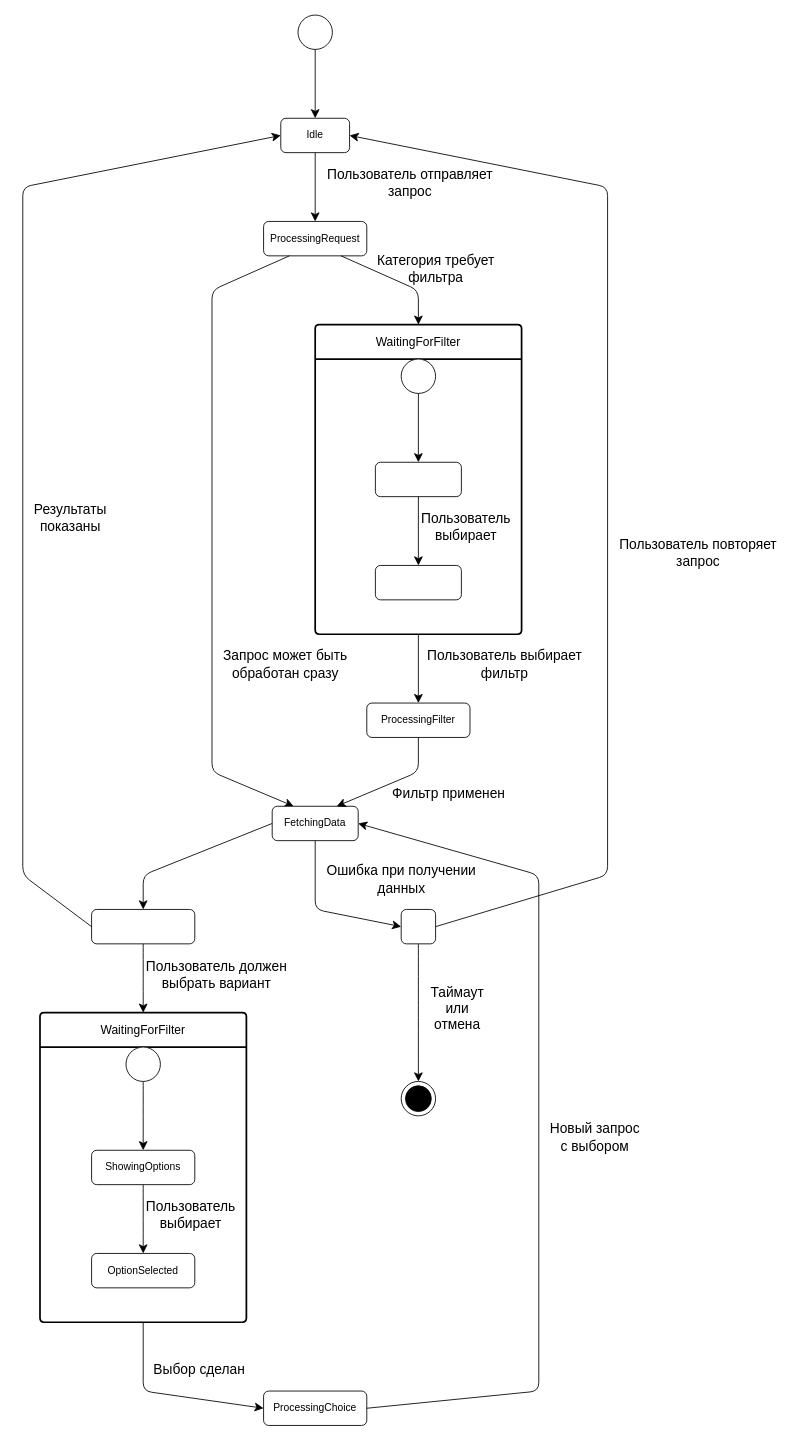
Some shapes in this 803 by 1441 pixel diagram are drawn without their labels. Here are the shapes that lost their labels. From the top down, the centre of each, then its label:
[418,479]: ShowingFilters
[418,582]: FilterSelected
[143,926]: PresentingResults
[418,926]: Error
